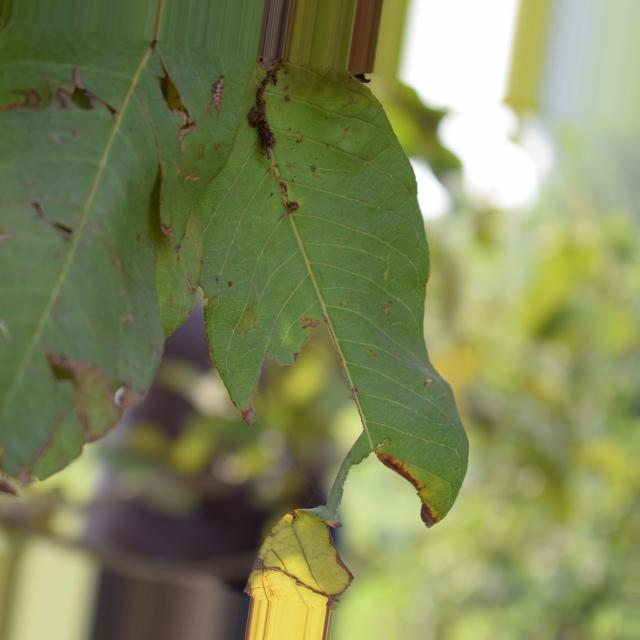Mummification: (0, 2, 468, 604)
